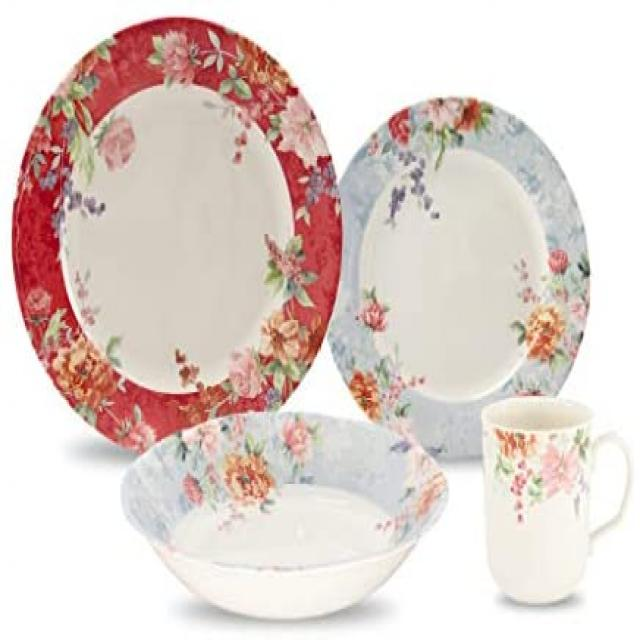non-organic waste: (9, 19, 322, 467), (286, 61, 604, 457), (125, 396, 472, 617)
